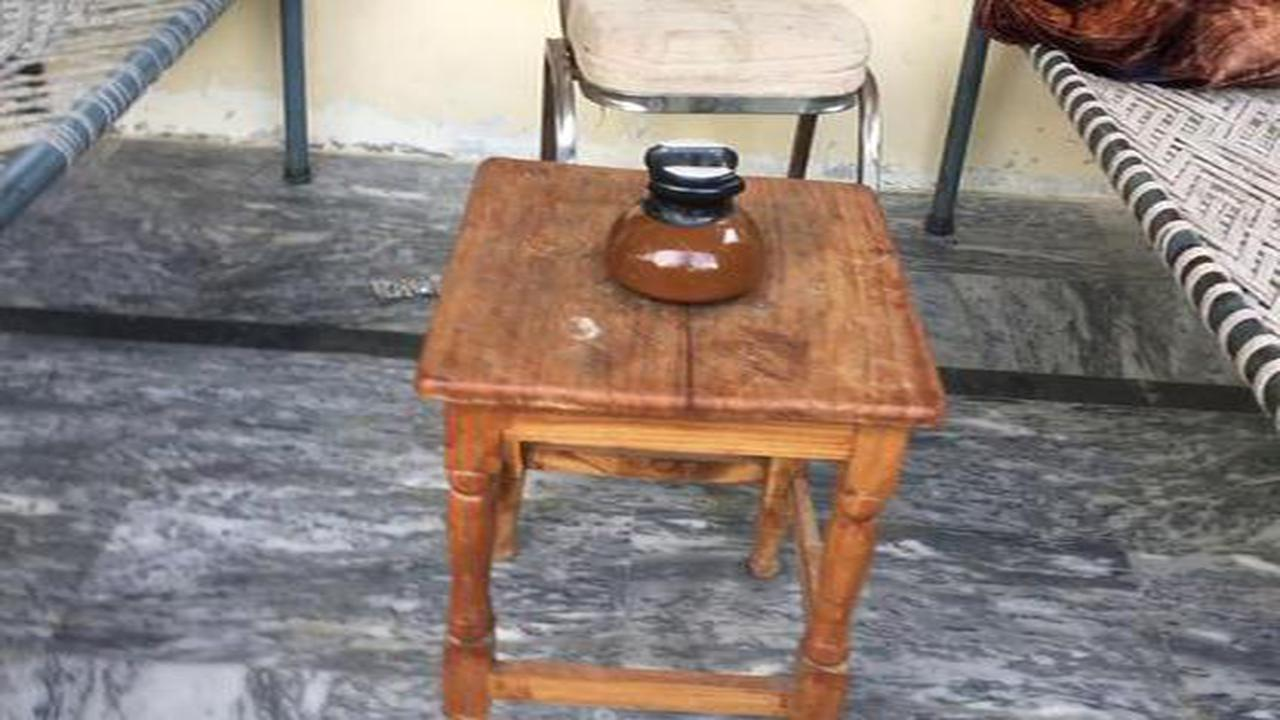insulator_pin: (576, 127, 785, 314)
